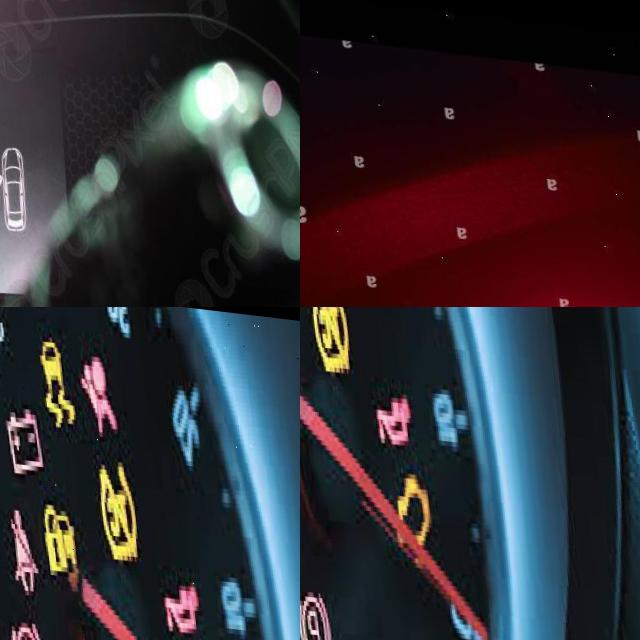Seat Belt: (2, 504, 34, 592)
